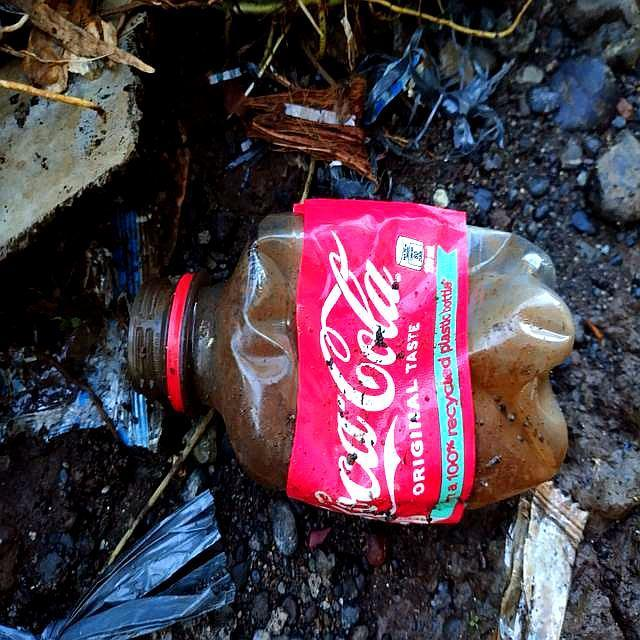Non-biodegradable: (119, 197, 585, 519)
